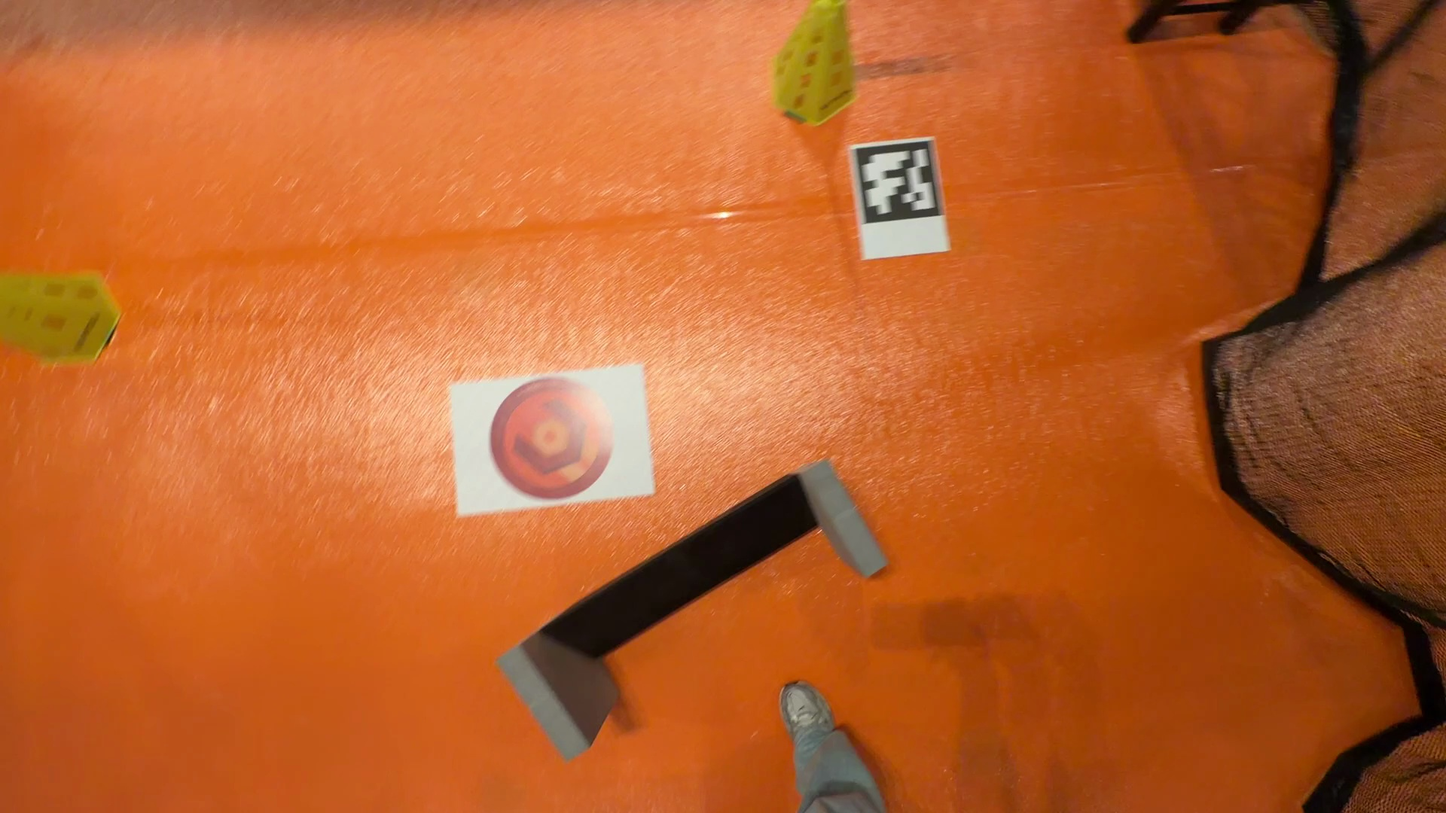landing_pad: (489, 376, 614, 502)
